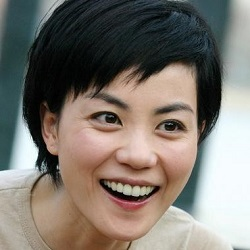unmask: (51, 77, 198, 241)
